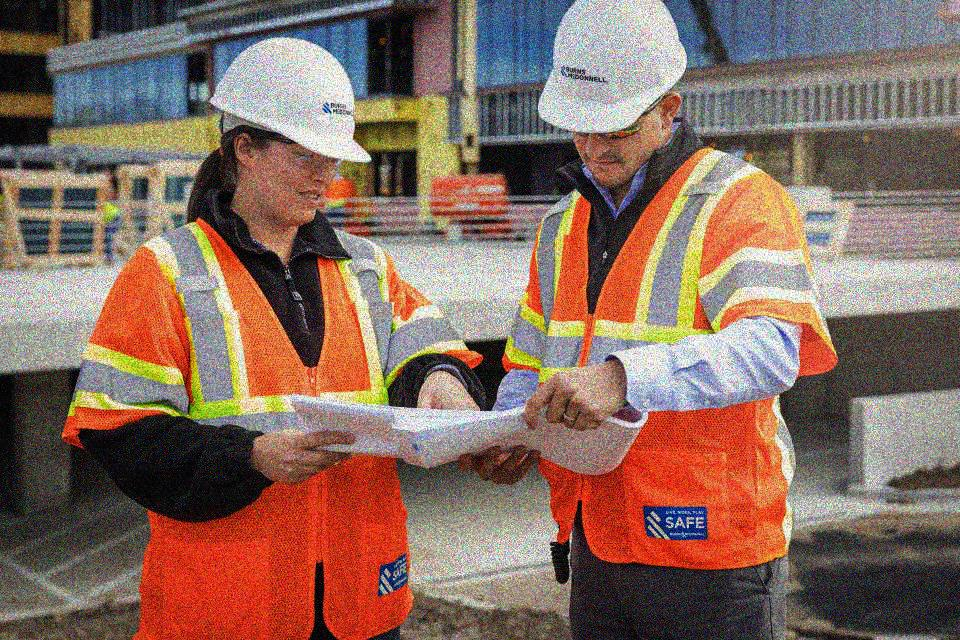helmet: (206, 35, 372, 232), (537, 1, 693, 193)
